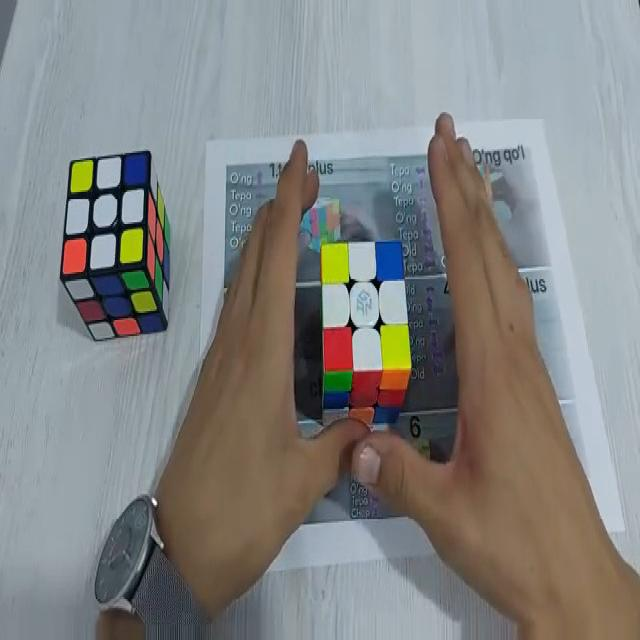Rub: (62, 150, 170, 343), (319, 238, 412, 428)
